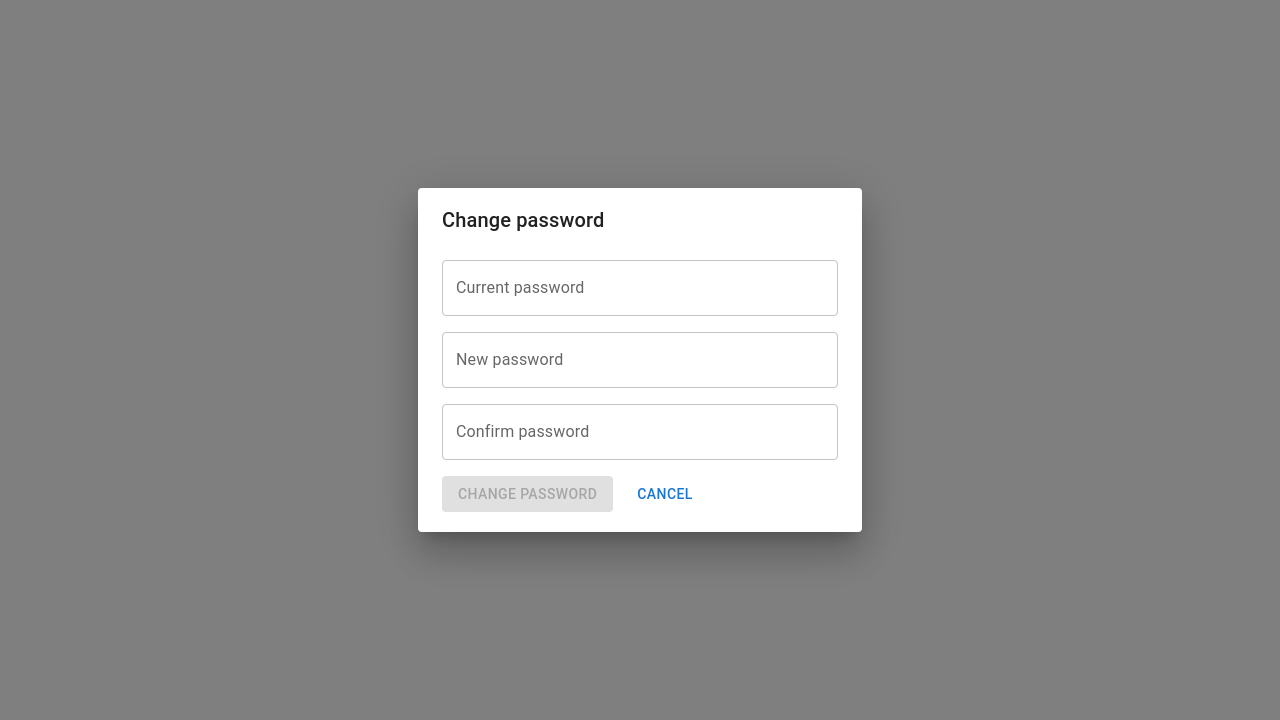
Test case: ChangePasswordDialog › blocks submit and warns when the new passwords do not match
The width and height of the screenshot is (1280, 720).
Type "Password123!" into the password field labelled "Current password". click: (640,288)
box: [442, 260, 838, 316]
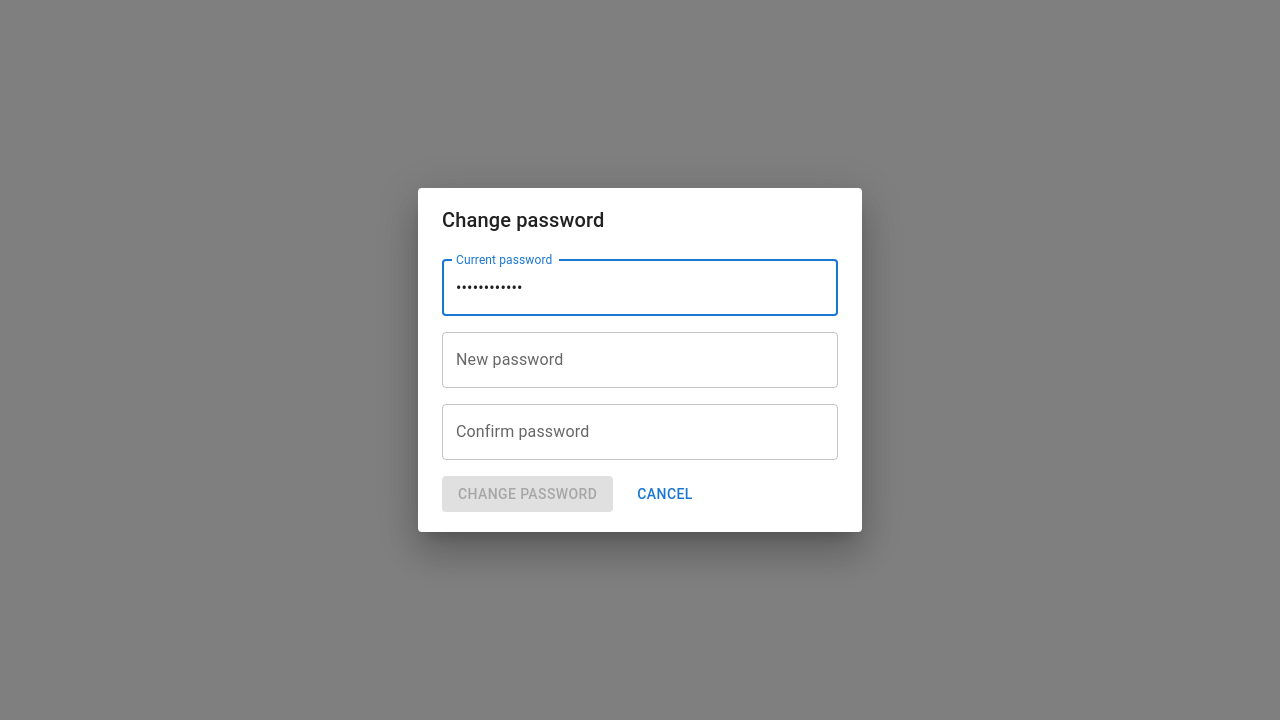
Type "BrandNewPass1!" into the password field labelled "New password". click: (640,360)
box: [442, 332, 838, 388]
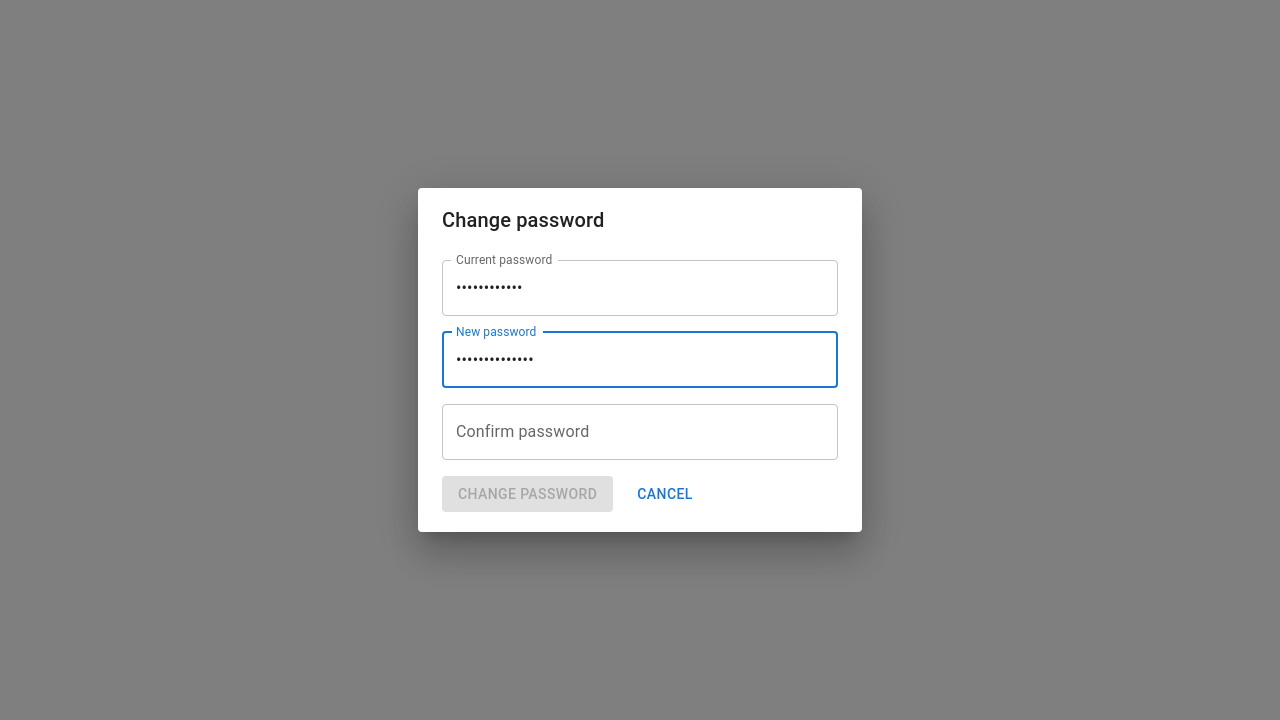
Type "Mismatch1!" into the password field labelled "Confirm". click: (640,432)
box: [442, 404, 838, 460]
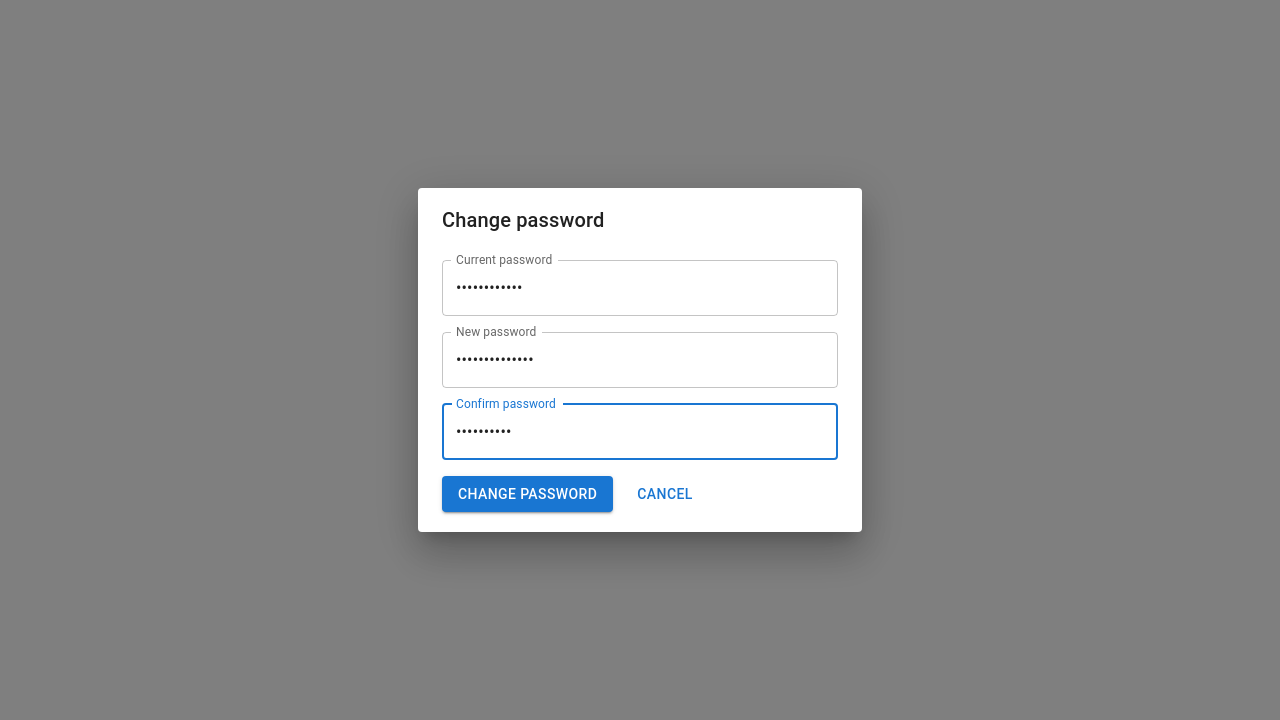
Click the button "Change password". click: (528,494)
box: [442, 476, 613, 512]
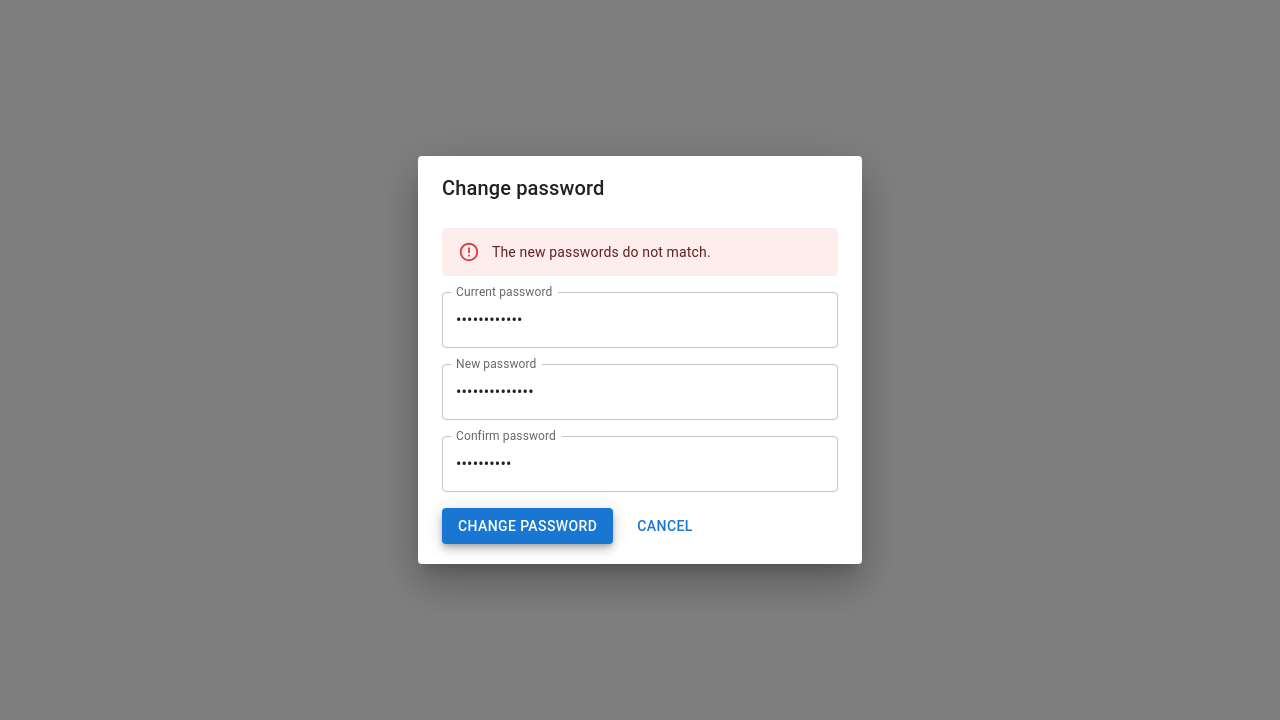
expect the text "The new passwords do not match." is shown: met, box [492, 244, 711, 260]
